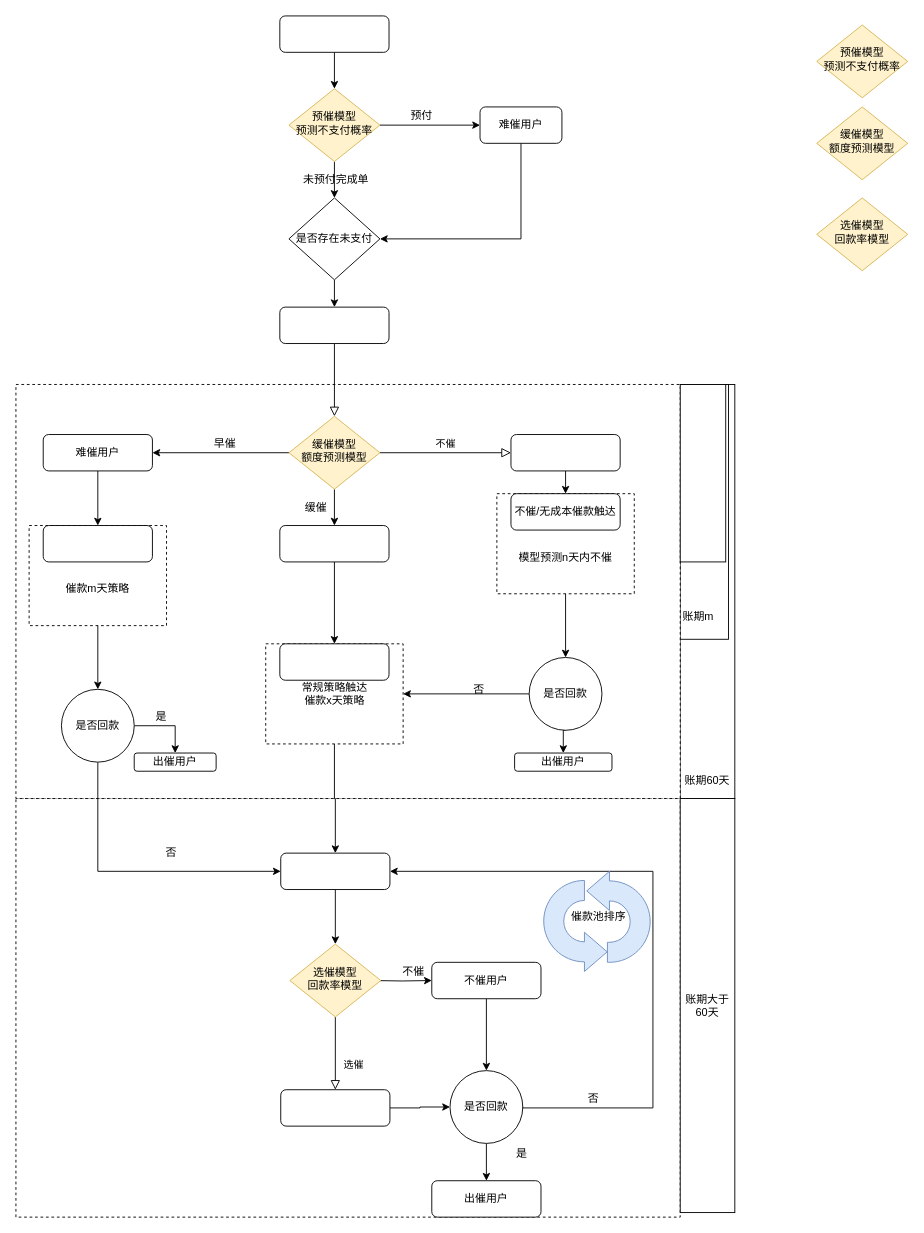
Image size: 924x1233. Some labels were removed from this diagram. Here are the shapes that lost their labels. From the top down, the centre of each, then its label:
At [334,33]: "提单用户".
At [334,325]: "入催用户".
At [565,452]: "自然回款用户".
At [702,473]: "账期n".
At [97,543]: "高频/激进触达".
At [334,543]: "缓催用户".
At [334,661]: "常规催款策略".
At [335,871]: "难催用户池".
At [335,1107]: "催了才回用户".
